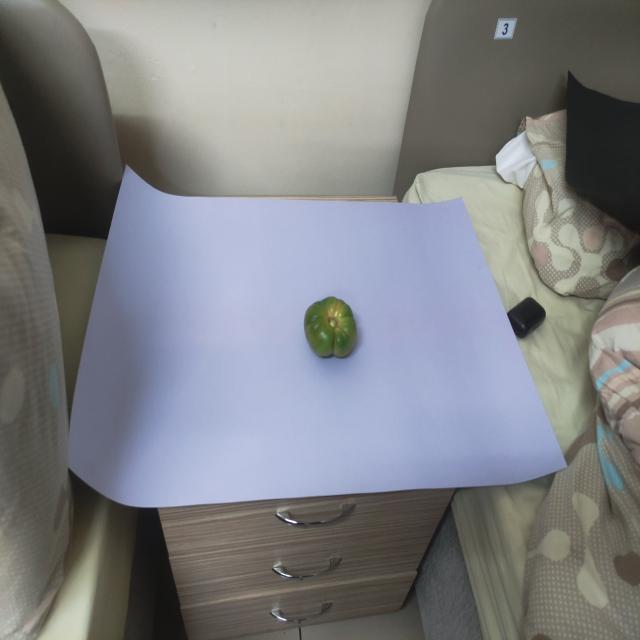yesil: (290, 280, 366, 365)
